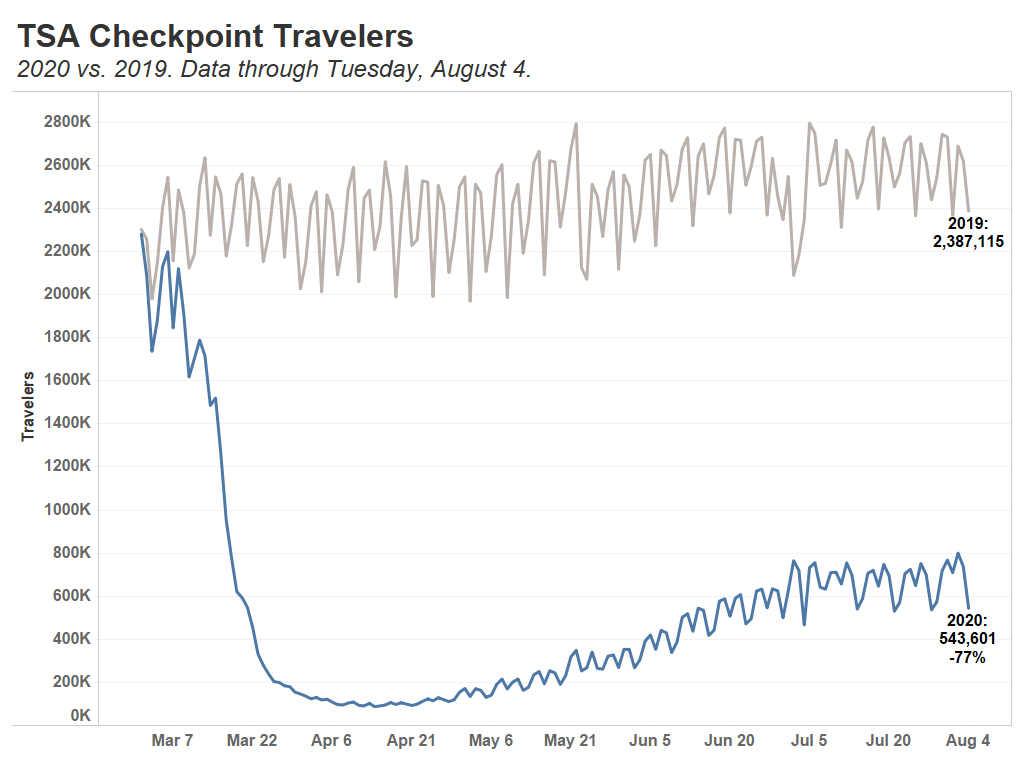

The dashboard page shown, as its layout file describes it:
{"tool":"tableau","page":{"name":"TSA Travelers","canvas":[1024,768],"ordinal":3},"visuals":[{"type":"worksheet","box":[0,0,1024,768]},{"type":"worksheet","title":"Travelers","mark":"Automatic","rows":["2019","2020"],"cols":["Date"],"box":[8,8,1008,752]}]}

Visuals, with their boxes in screenshot pixels (x1, y1, x2, y2), scaled from the page's 1024x768 canvas onto the 1024x768 screenshot:
worksheet: {"left": 0, "top": 0, "right": 1023, "bottom": 767}
"Travelers" worksheet: {"left": 8, "top": 8, "right": 1016, "bottom": 760}
